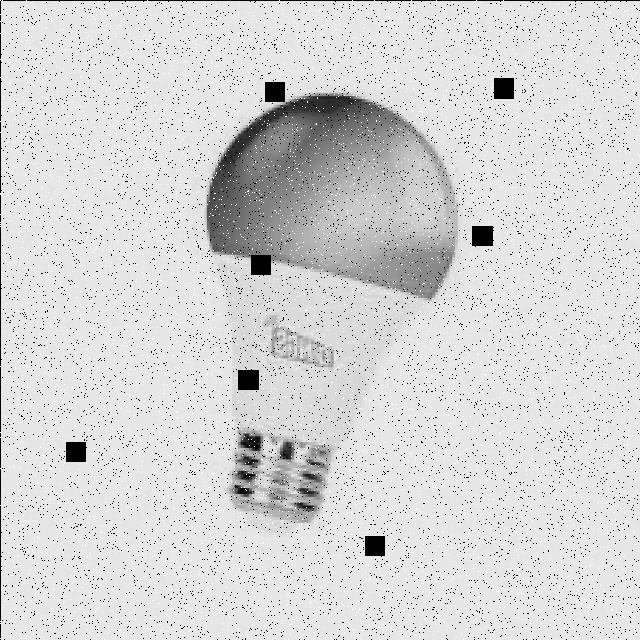light_bulb: (179, 80, 475, 536)
